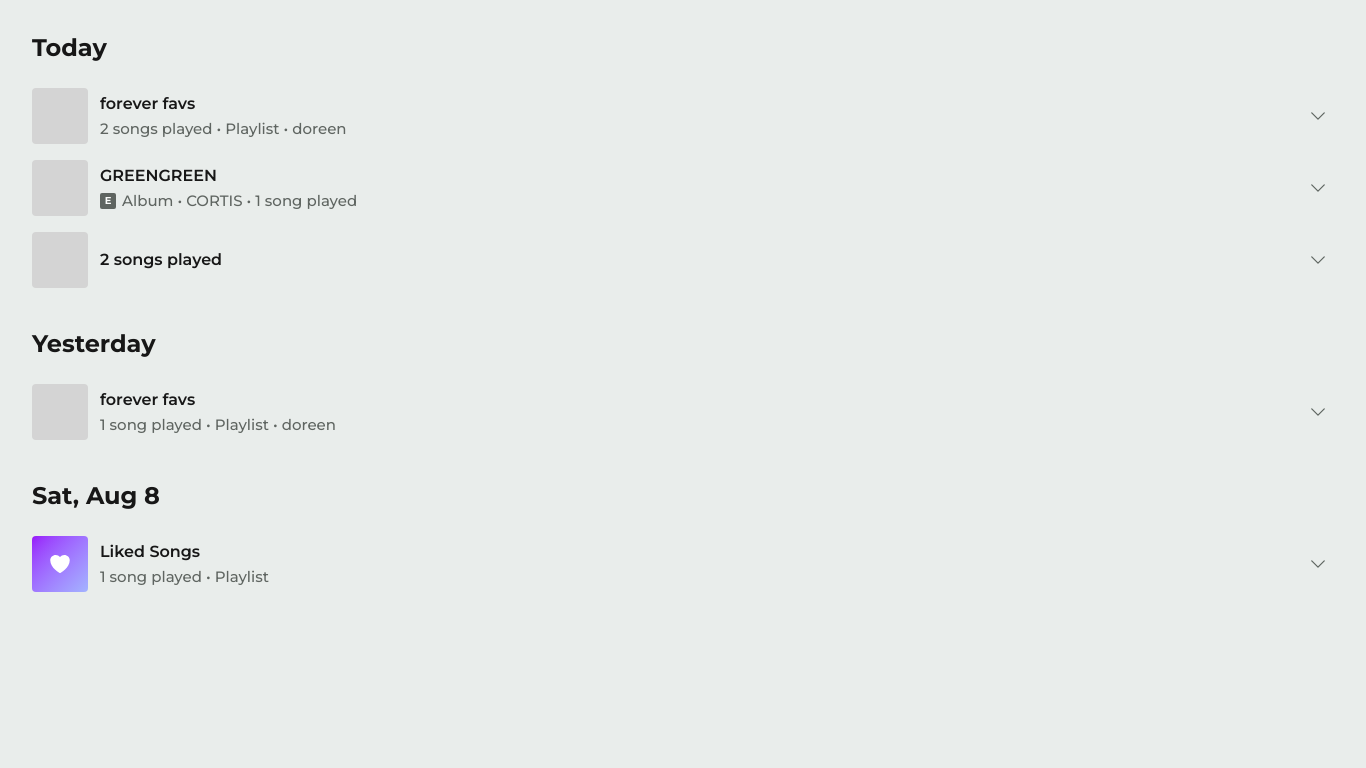
Test case: RecentsPage grouped history › expands a row to reveal the individual plays
Expected: the text "Track p1" is not shown
Click the button named "Show songs played from forever favs" in the row of "2 songs played • Playlist • doreen".
click(1318, 116)  # box [1302,100,1334,132]
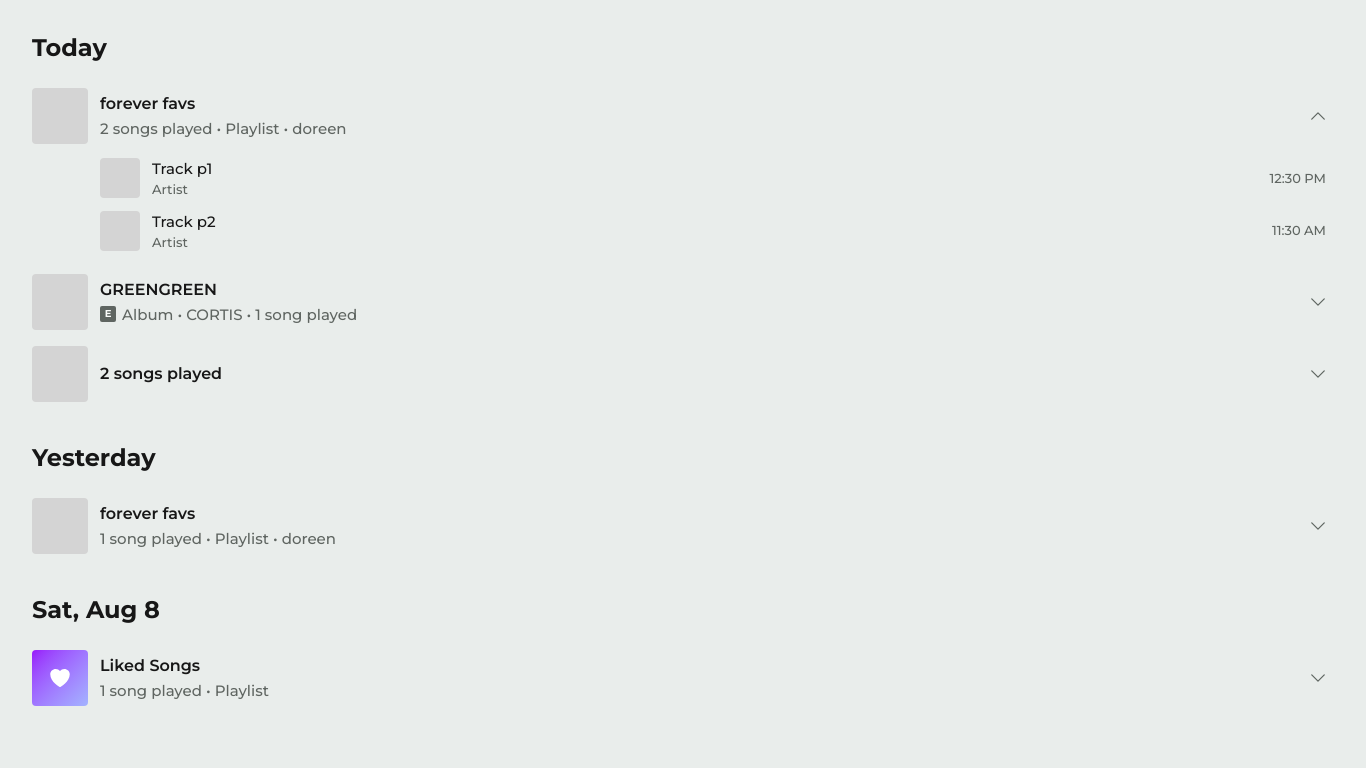
Expected: the text "Track p1" is shown, [152,159,212,178]
Expected: the text "Track p2" is shown, [152,212,216,231]
Expected: the number of buttons named "Hide songs played from forever favs" is 1, [1302,100,1334,132]
